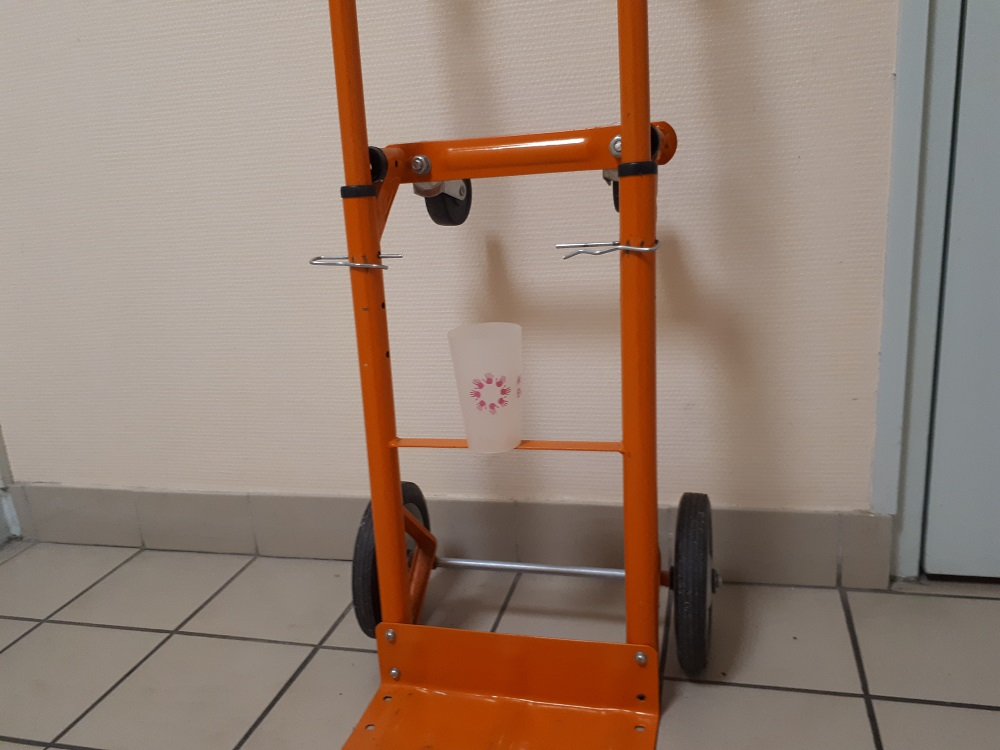ecocup: (443, 319, 528, 458)
